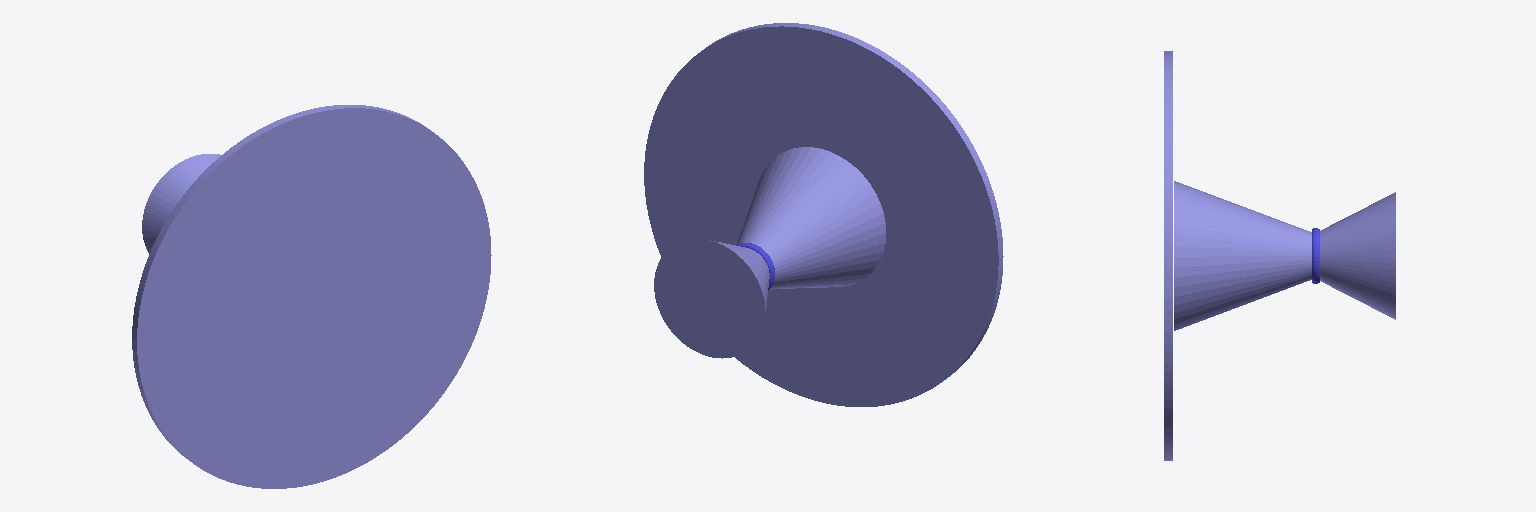
The model's file is desk.obj.
The picture shows the model from 3 angles: view 1: azimuth 30°, elevation 25°; view 2: azimuth 150°, elevation 25°; view 3: azimuth 270°, elevation 25°; orthographic projection.
Visible parts, largest first — view 1: glasstop, tablebottombase; view 2: glasstop, tabletopbase, tablebottombase; view 3: tabletopbase, tablebottombase, glasstop.
Boxes of the visible parts, x1,y1,x2,y2 form: glasstop: [132, 105, 491, 488]; tablebottombase: [142, 154, 220, 253]; glasstop: [644, 23, 1003, 406]; tabletopbase: [737, 147, 885, 288]; tablebottombase: [654, 239, 769, 358]; tabletopbase: [1174, 181, 1311, 330]; tablebottombase: [1320, 192, 1395, 319]; glasstop: [1164, 51, 1172, 460].
Size of the model in its own units: 113 by 113 by 64.38.